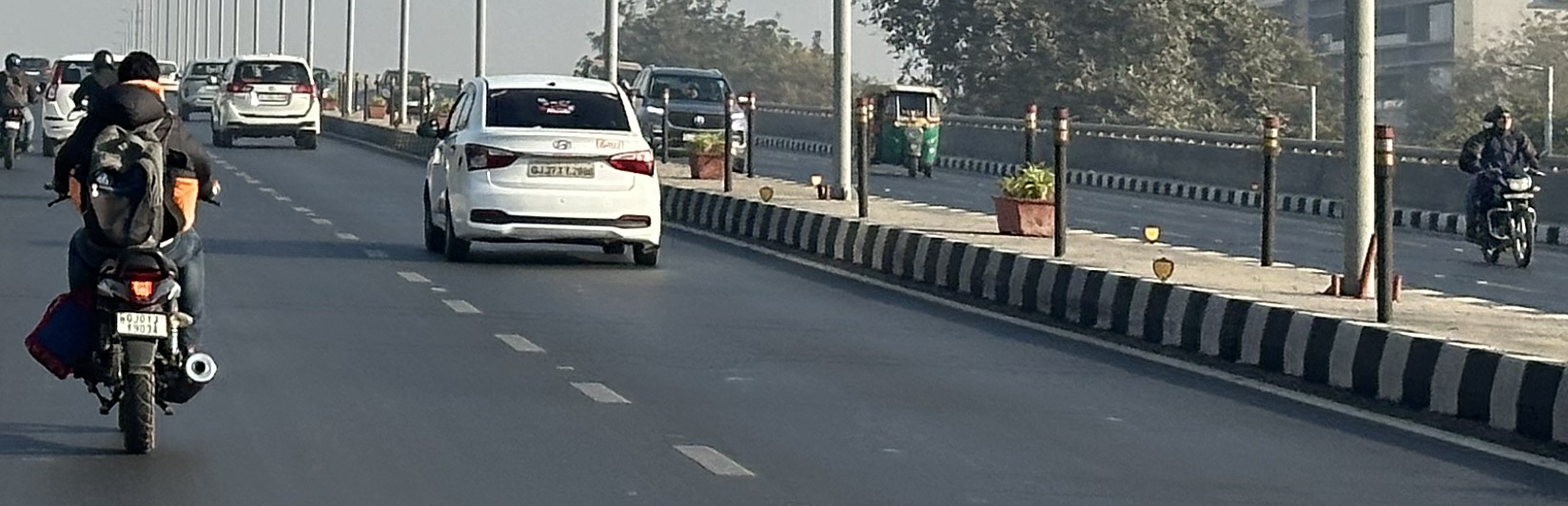BikeWithRider: (18, 40, 232, 461), (1449, 98, 1555, 273), (0, 51, 43, 172)
NoHelmet: (110, 46, 170, 108), (1476, 101, 1519, 137)
